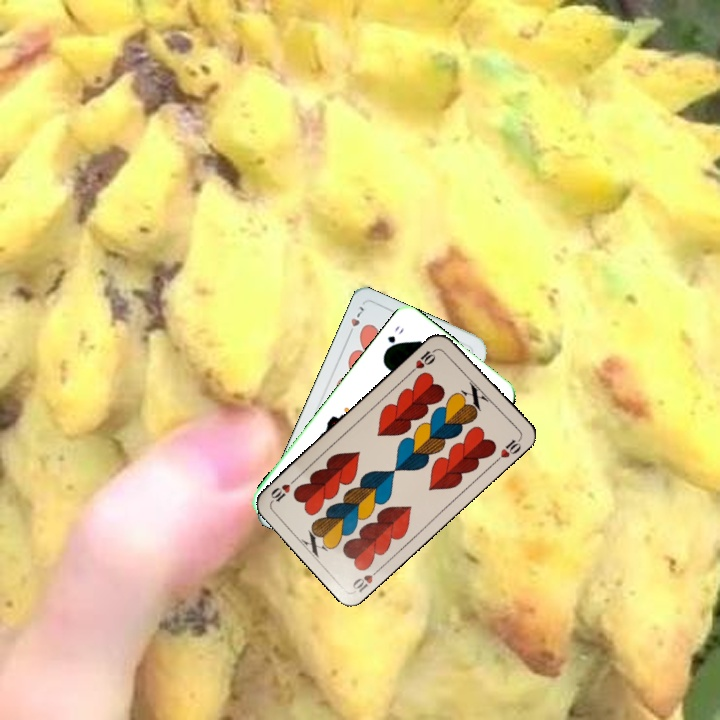GO: (381, 322, 407, 355)
H10: (348, 563, 385, 595), (407, 345, 440, 376)
H7: (344, 302, 367, 340)
